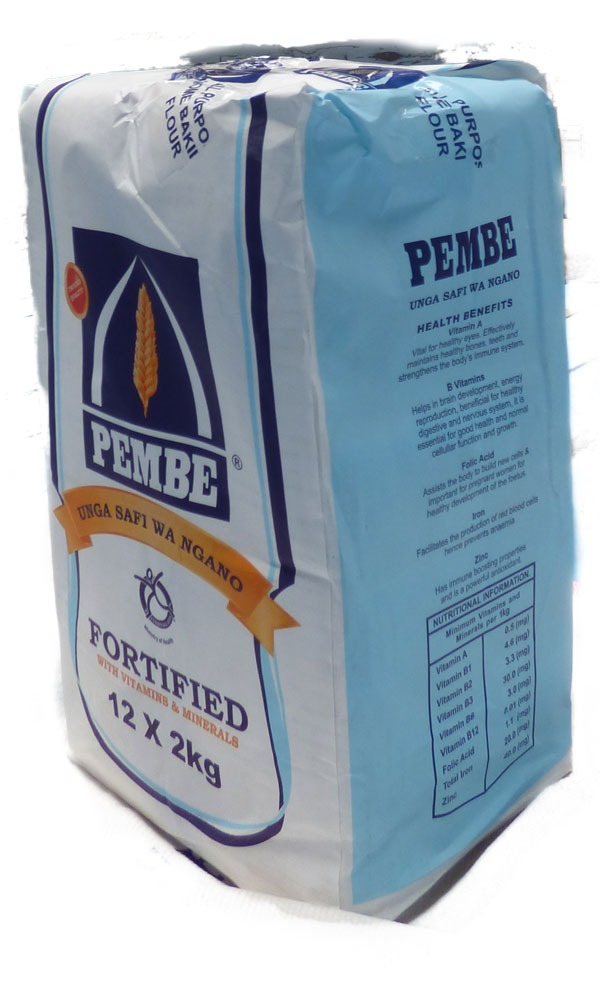wheat_flour_blue_label: (30, 35, 578, 919)
